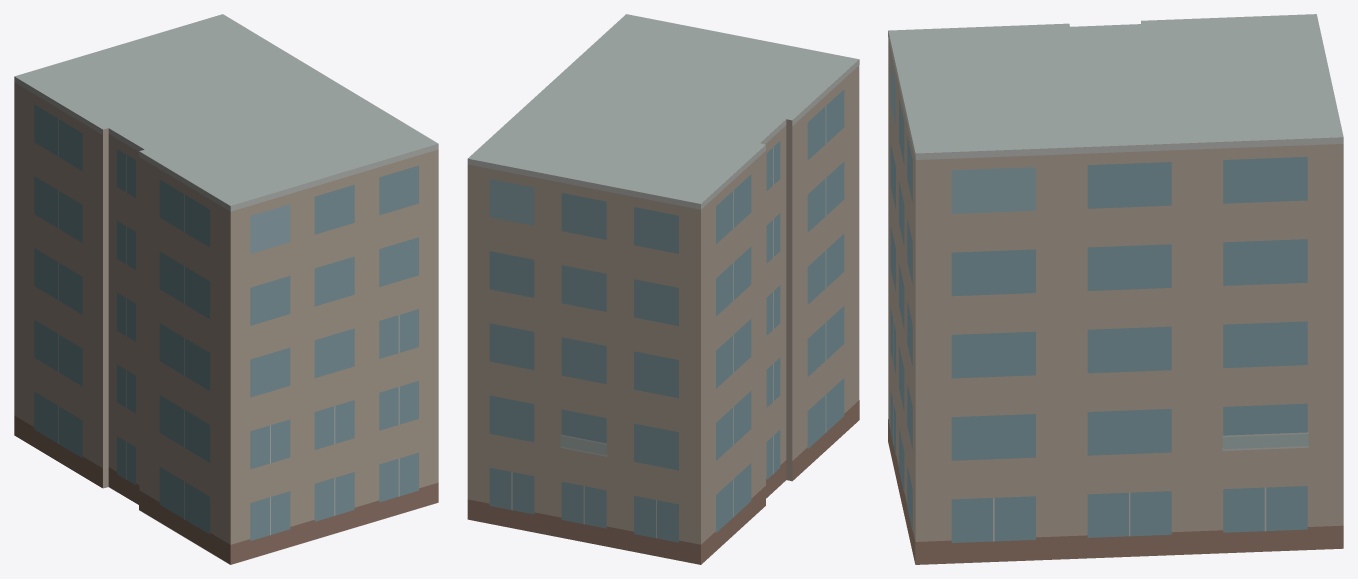
Rendered from survey-upis-32613946.glb.
3 views of the same model, side by side, from view 1: azimuth 30°, elevation 25°; view 2: azimuth 150°, elevation 25°; view 3: azimuth 270°, elevation 25° (orthographic). The views are drawn at different scales.
Visible parts, largest first — view 1: survey-upis-32613946.tmp; view 2: survey-upis-32613946.tmp; view 3: survey-upis-32613946.tmp.
Part boxes in pixels (x1,y1,x2,y2): survey-upis-32613946.tmp: [14, 14, 438, 564]; survey-upis-32613946.tmp: [467, 14, 859, 564]; survey-upis-32613946.tmp: [888, 14, 1343, 564].
Bounding box in the file's own units: 11.1 × 15.25 × 15.31.
